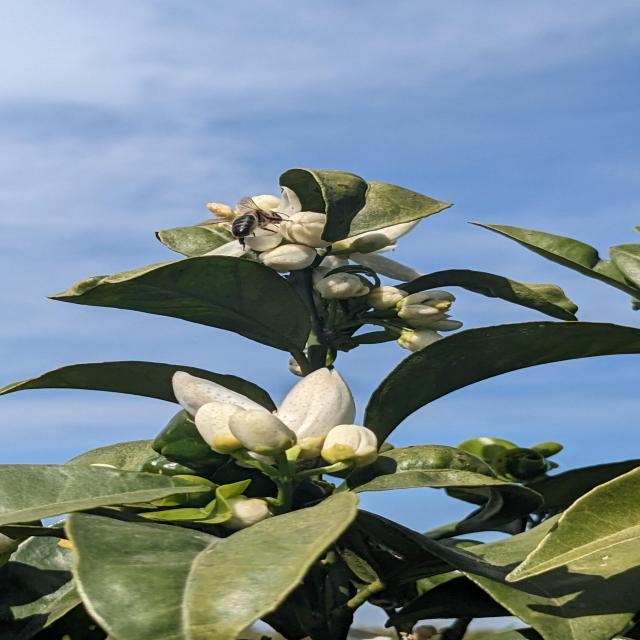Bunga: (198, 189, 299, 258), (278, 367, 354, 443), (172, 372, 272, 422), (232, 408, 296, 452), (317, 424, 384, 466), (194, 400, 248, 452), (348, 219, 424, 252), (400, 289, 464, 328), (286, 209, 338, 251), (225, 495, 272, 530), (258, 245, 320, 270), (316, 274, 361, 300), (398, 329, 448, 352), (371, 285, 408, 309)
